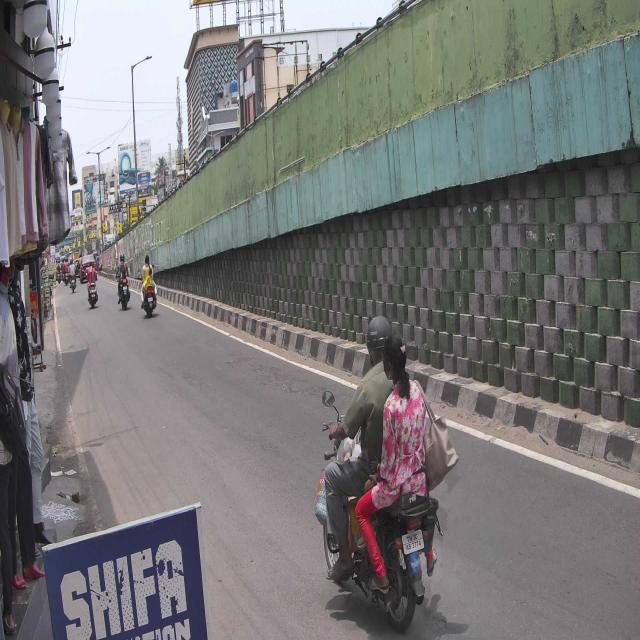double_rider: (317, 312, 443, 632)
